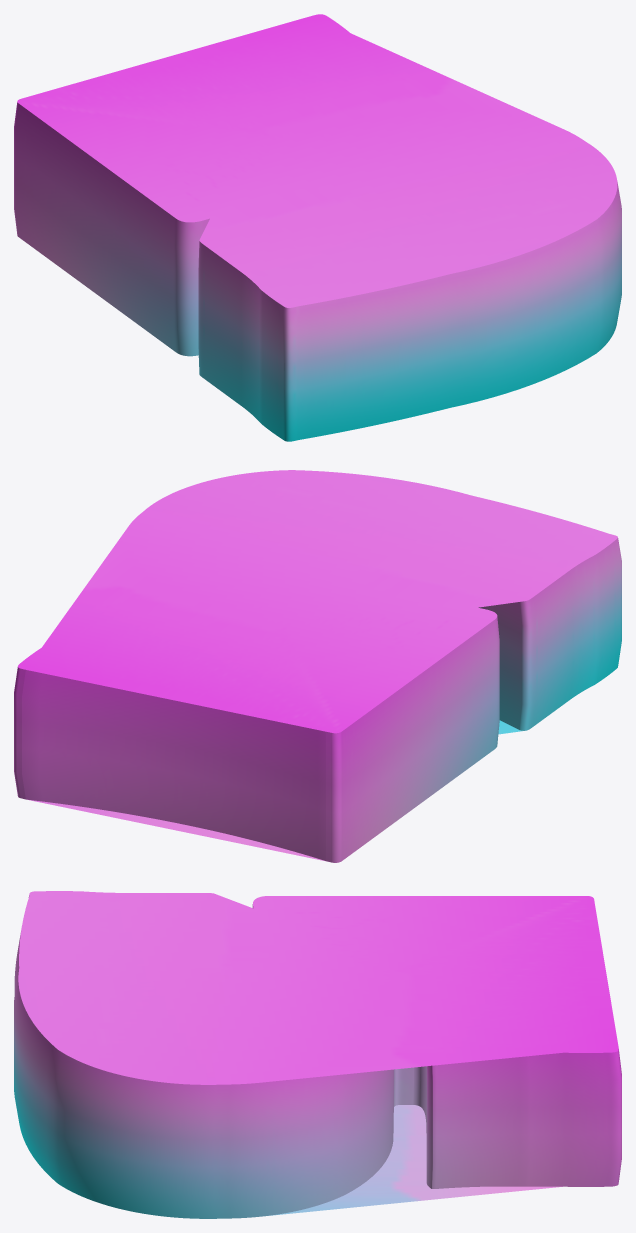
3 views of the same model, one above another, from view 1: azimuth 30°, elevation 25°; view 2: azimuth 150°, elevation 25°; view 3: azimuth 270°, elevation 25° (orthographic). The views are drawn at different scales.
Visible parts, largest first — view 1: Curve.005; view 2: Curve.005; view 3: Curve.005.
Boxes of the visible parts, x1,y1,x2,y2 form: Curve.005: [14, 14, 621, 441]; Curve.005: [14, 470, 621, 862]; Curve.005: [14, 891, 621, 1218].
Bounding box in the file's own units: 35.69 × 11.36 × 46.7.
Materials: 1 (1 with a texture image).
